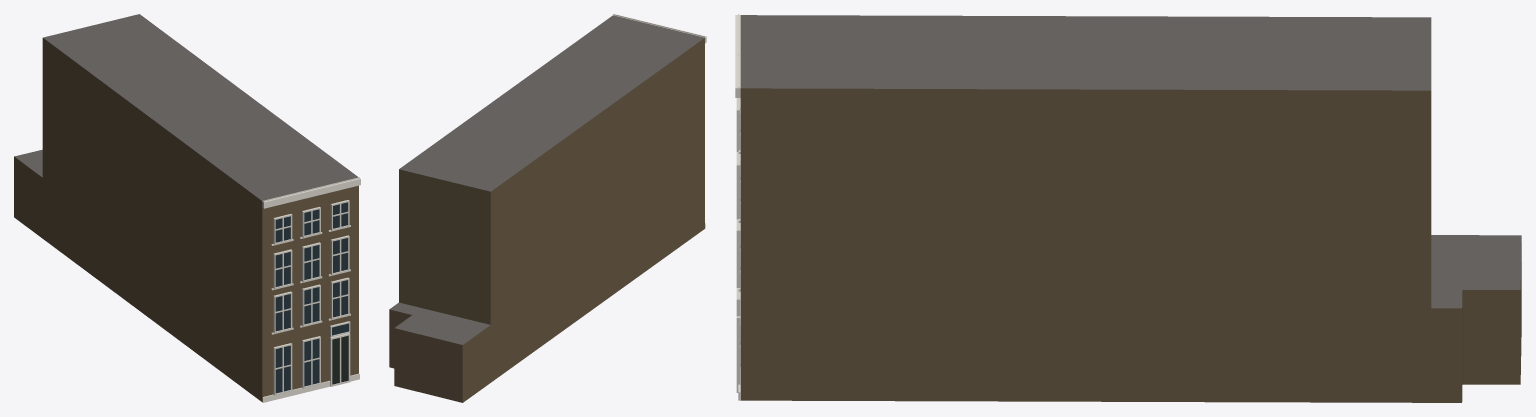
3 views of the same model, side by side, from view 1: azimuth 30°, elevation 25°; view 2: azimuth 150°, elevation 25°; view 3: azimuth 270°, elevation 25° (orthographic). The views are drawn at different scales.
Parts seen in each view (by area): view 1: spec-0363100012169115; view 2: spec-0363100012169115; view 3: spec-0363100012169115.
Boxes of the visible parts, x1,y1,x2,y2 form: spec-0363100012169115: [14, 14, 360, 402]; spec-0363100012169115: [389, 14, 706, 402]; spec-0363100012169115: [735, 14, 1521, 402].
Bounding box in the file's own units: 5.83 × 11.26 × 25.6.
